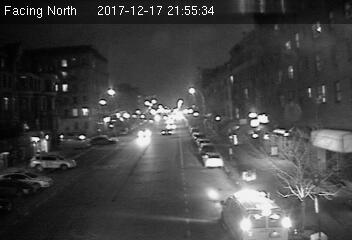car: (203, 153, 222, 169), (136, 126, 151, 138), (159, 127, 174, 137)
police: (215, 187, 293, 240)
